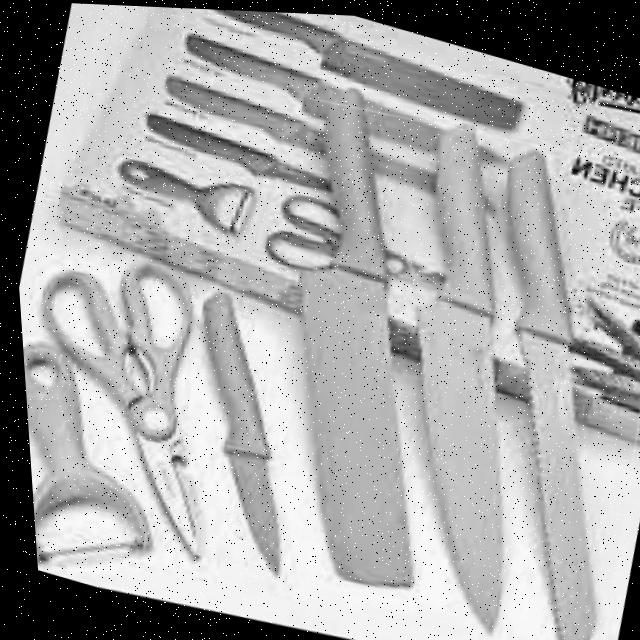knife: (214, 70, 521, 599), (321, 107, 607, 632), (391, 135, 640, 640), (137, 280, 336, 576)
